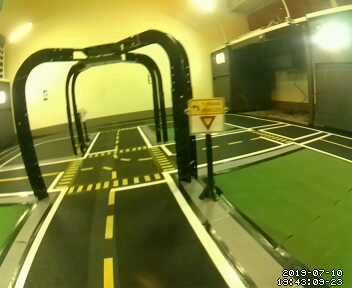Turn Yield: (187, 97, 226, 134)
